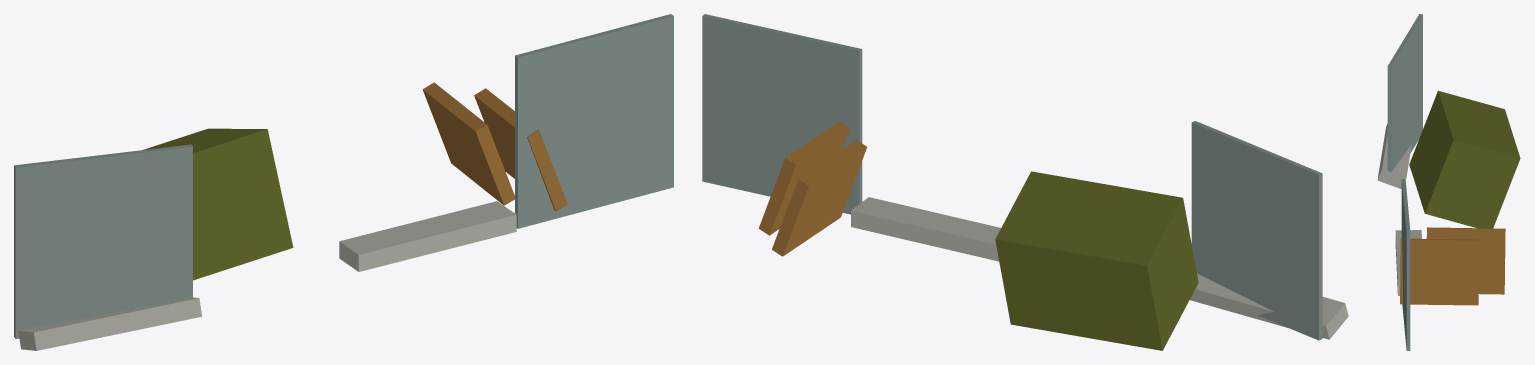
File: SM_BarricadaCivil_v2_Vallas_e1_Danado_LOD1.fbx
3 renders of one model, left to right at view 1: azimuth 30°, elevation 25°; view 2: azimuth 150°, elevation 25°; view 3: azimuth 270°, elevation 25°, orthographic. The views are drawn at different scales.
Parts seen in each view (by area): view 1: SM_barricada_civil_v9_LOD1; view 2: SM_barricada_civil_v9_LOD1; view 3: SM_barricada_civil_v9_LOD1.
Part boxes in pixels (left/top/right/bottom): SM_barricada_civil_v9_LOD1: left=14, top=14, right=673, bottom=350; SM_barricada_civil_v9_LOD1: left=702, top=14, right=1348, bottom=350; SM_barricada_civil_v9_LOD1: left=1377, top=14, right=1520, bottom=350.
Size of the model in its own units: 7.96 by 2.15 by 2.19.
